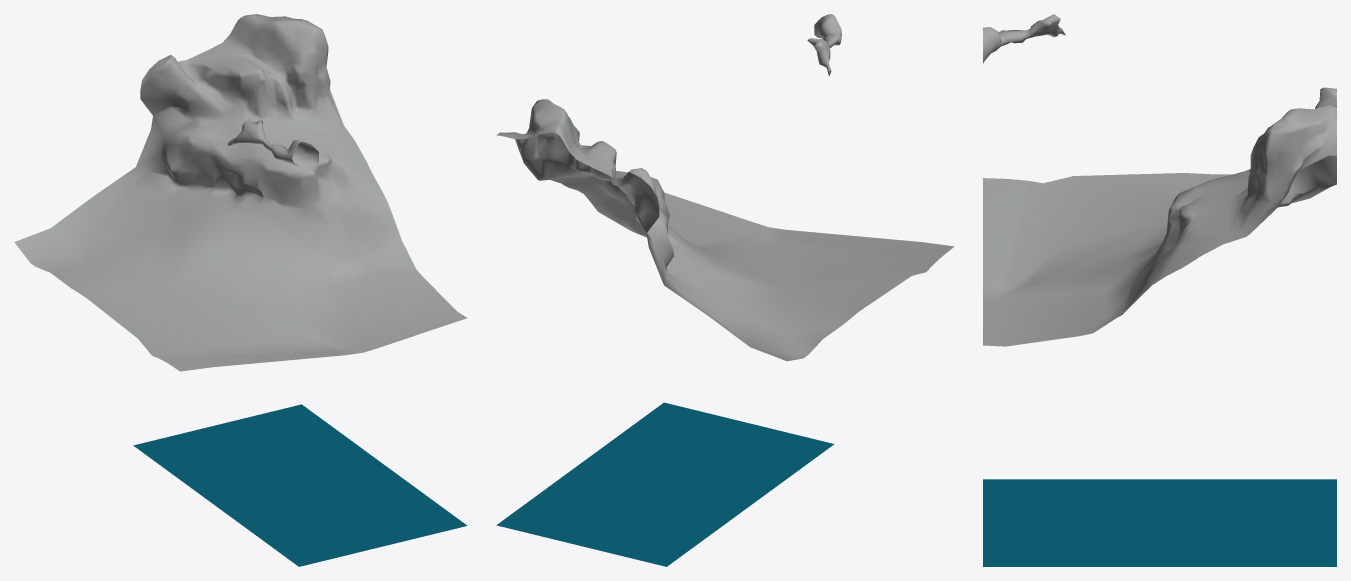
The picture shows the model from 3 angles, left to right: view 1: azimuth 30°, elevation 25°; view 2: azimuth 150°, elevation 25°; view 3: azimuth 270°, elevation 25°; orthographic projection. The views are drawn at different scales.
Parts seen in each view (by area): view 1: G:\FFXIV-MapTools\exports\s1f3\bg\ffxiv\sea_s1\fld\s1f3\bgpl (×8); view 2: G:\FFXIV-MapTools\exports\s1f3\bg\ffxiv\sea_s1\fld\s1f3\bgpl (×7); view 3: G:\FFXIV-MapTools\exports\s1f3\bg\ffxiv\sea_s1\fld\s1f3\bgpl (×8).
Part boxes in pixels (x1,y1,x2,y2): G:\FFXIV-MapTools\exports\s1f3\bg\ffxiv\sea_s1\fld\s1f3\bgpl (×8): (14, 14, 467, 566); G:\FFXIV-MapTools\exports\s1f3\bg\ffxiv\sea_s1\fld\s1f3\bgpl (×7): (496, 14, 954, 566); G:\FFXIV-MapTools\exports\s1f3\bg\ffxiv\sea_s1\fld\s1f3\bgpl (×8): (983, 14, 1336, 566).
Bounding box in the file's own units: 128 × 182 × 128.
